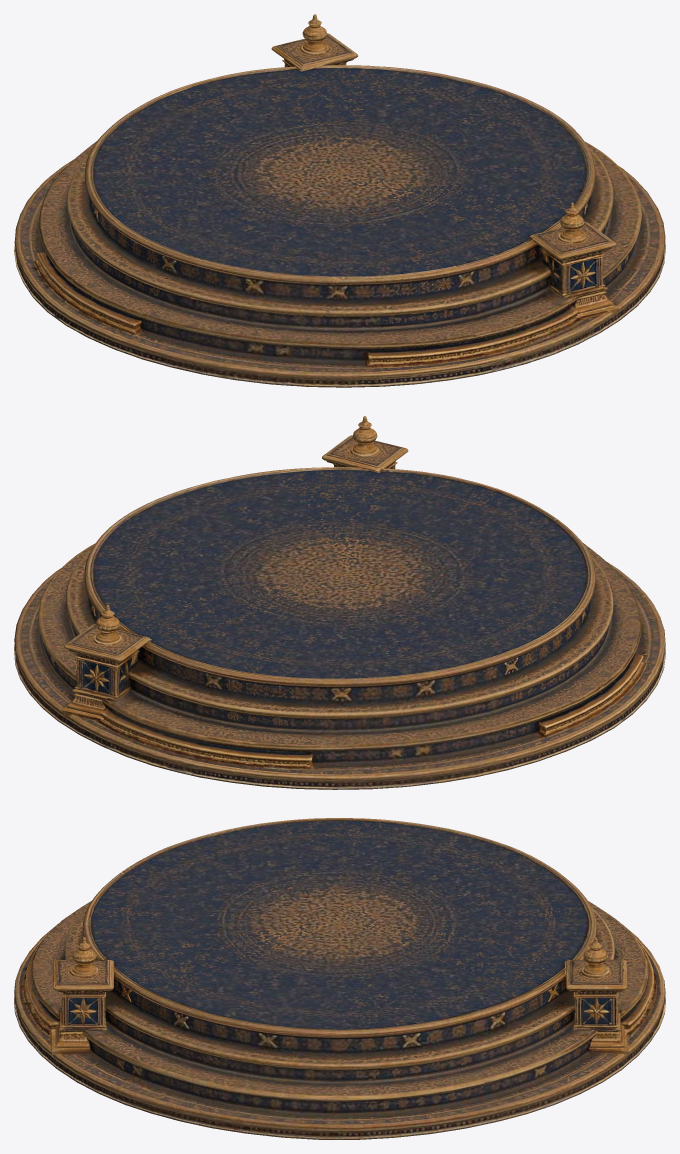
The model's file is درج السرير.glb.
The picture shows the model from 3 angles, top to bottom: view 1: azimuth 30°, elevation 25°; view 2: azimuth 150°, elevation 25°; view 3: azimuth 270°, elevation 25°; orthographic projection.
Parts seen in each view (by area): view 1: tripo_node_689d65af-0b85-4aa4-8859-0135e2e98ffd; view 2: tripo_node_689d65af-0b85-4aa4-8859-0135e2e98ffd; view 3: tripo_node_689d65af-0b85-4aa4-8859-0135e2e98ffd.
Boxes of the visible parts, x1,y1,x2,y2 form: tripo_node_689d65af-0b85-4aa4-8859-0135e2e98ffd: (14,14,665,387); tripo_node_689d65af-0b85-4aa4-8859-0135e2e98ffd: (14,416,665,789); tripo_node_689d65af-0b85-4aa4-8859-0135e2e98ffd: (14,818,665,1139).
Size of the model in its own units: 3.07 by 0.6 by 3.07.
Materials: 1 (1 with a texture image).
